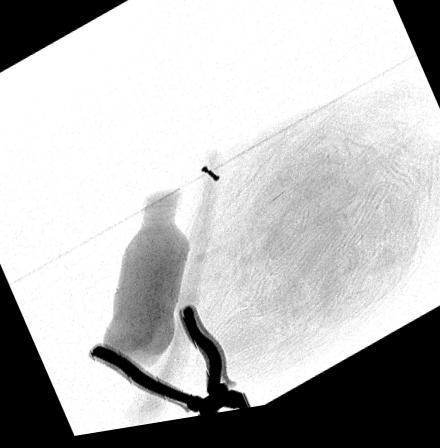Pliers: (87, 311, 250, 423)
